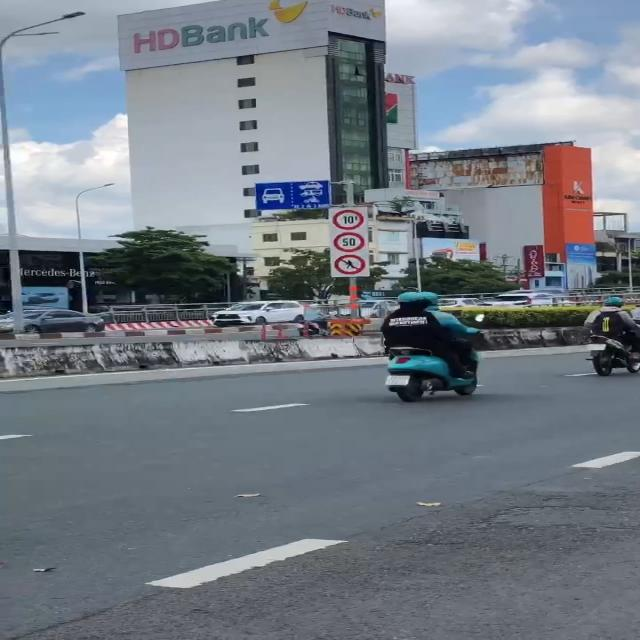Bien bao cam nguoi di bo: (332, 252, 370, 278)
Bien bao toc do toi da cho phep: (331, 231, 367, 253)
